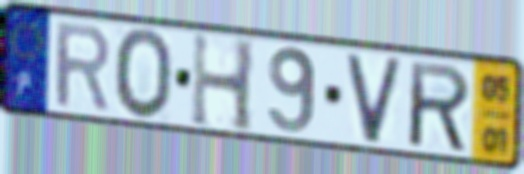9: (265, 44, 317, 137)
H: (188, 29, 259, 137)
O: (112, 25, 175, 123)
R: (407, 58, 473, 156), (52, 19, 113, 115)
V: (343, 51, 406, 147)
